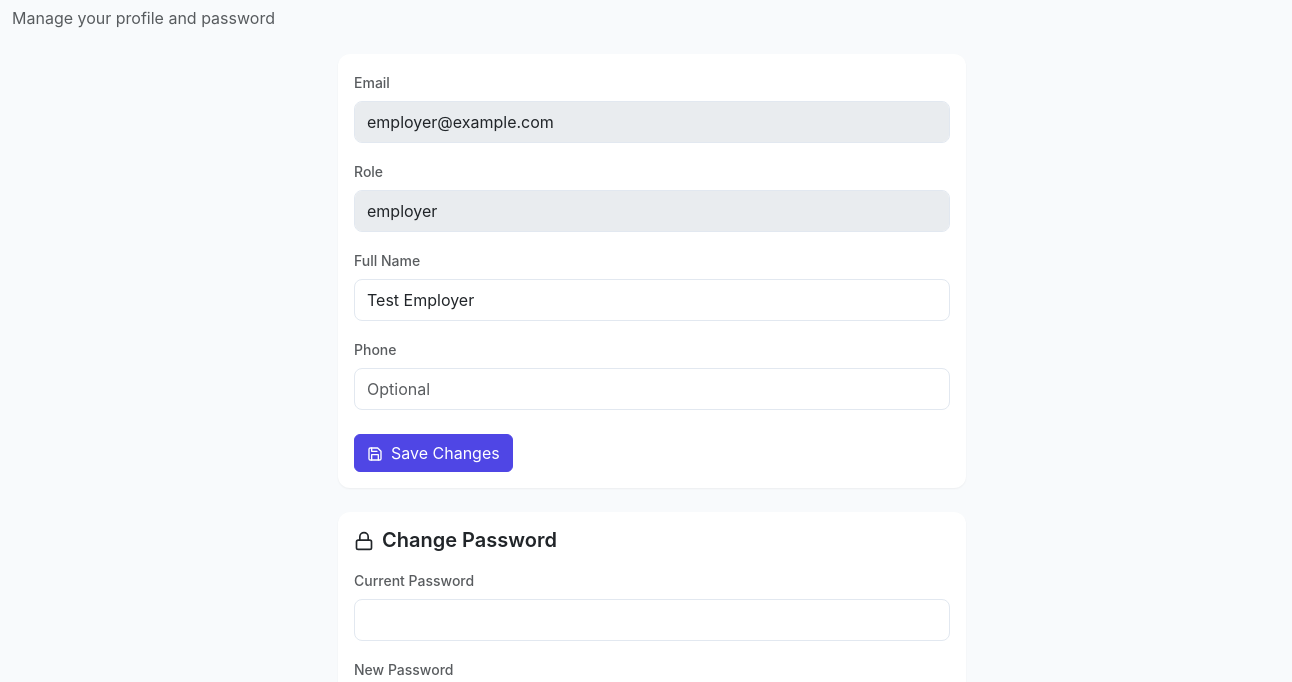
Test: AccountSettings › does not submit mismatched new passwords
Type "strong-password" into the password field labelled "Current Password" at (652, 620), box [354, 599, 950, 641]
(page scrolled)
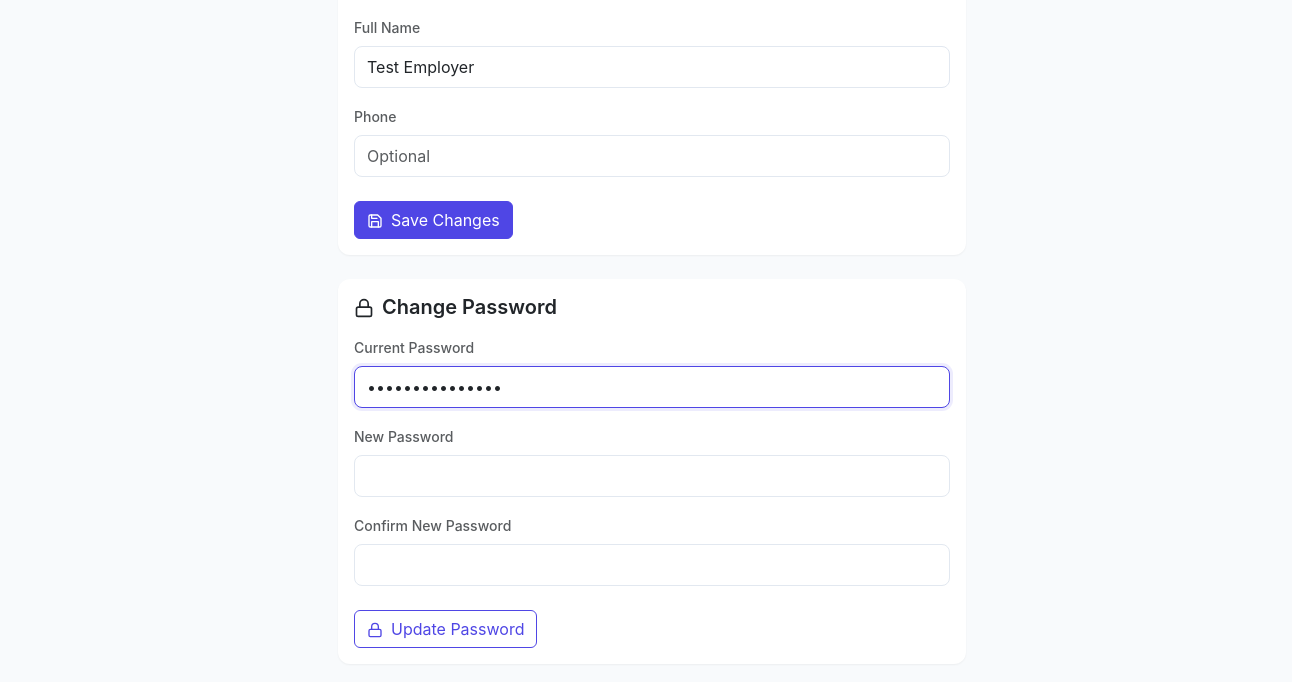
Type "new-strong-password" into the password field labelled "New Password" at (652, 476), box [354, 455, 950, 497]
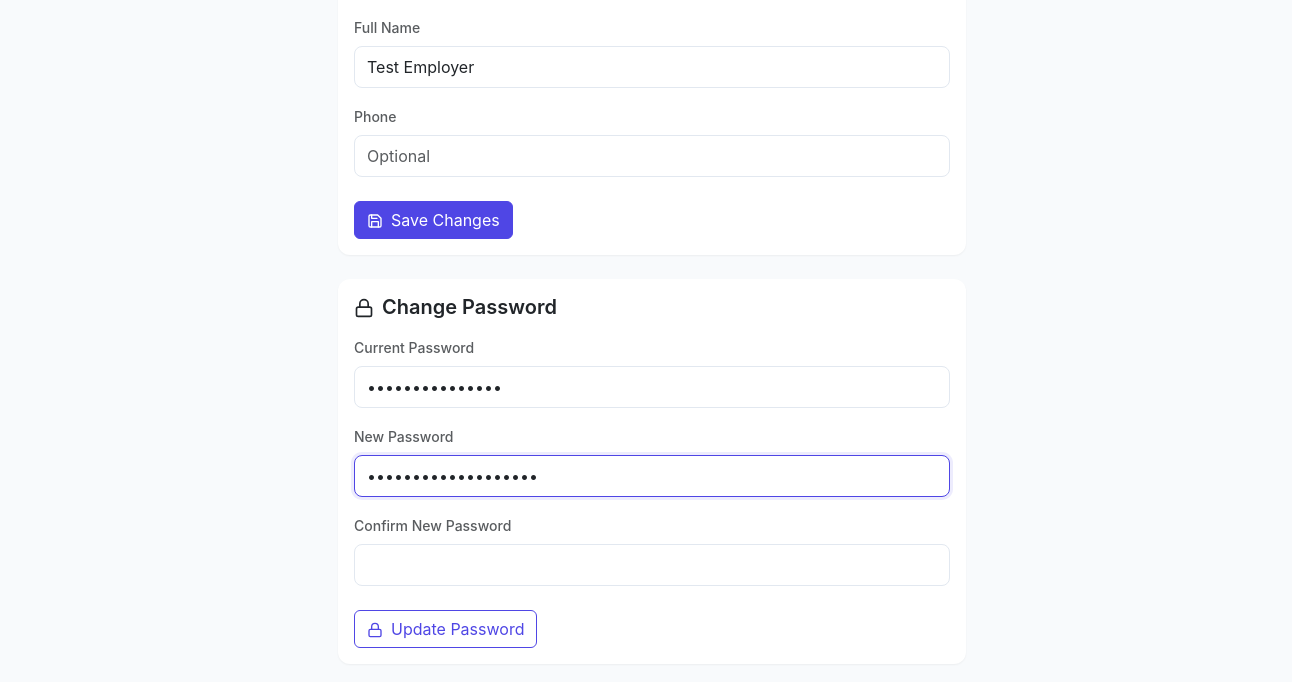
Type "different-password" into the password field labelled "Confirm New Password" at (652, 565), box [354, 544, 950, 586]
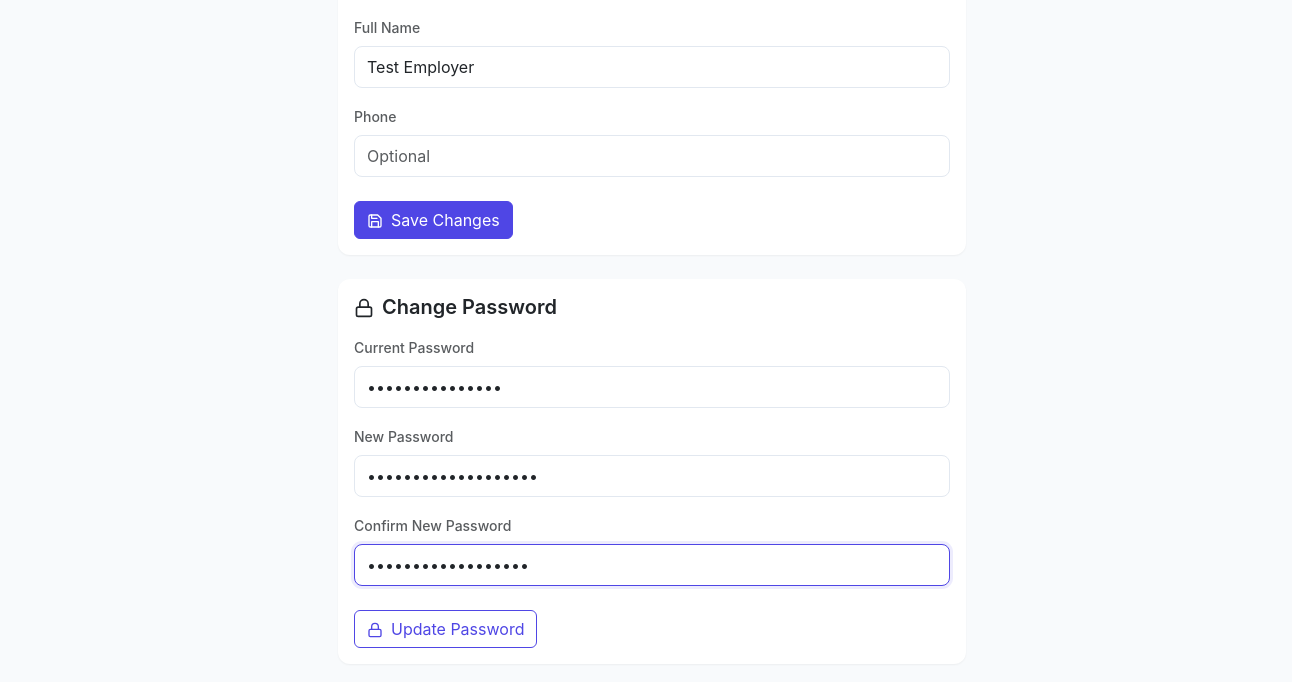
Click the button "Update Password" at (446, 629), box [354, 610, 537, 648]
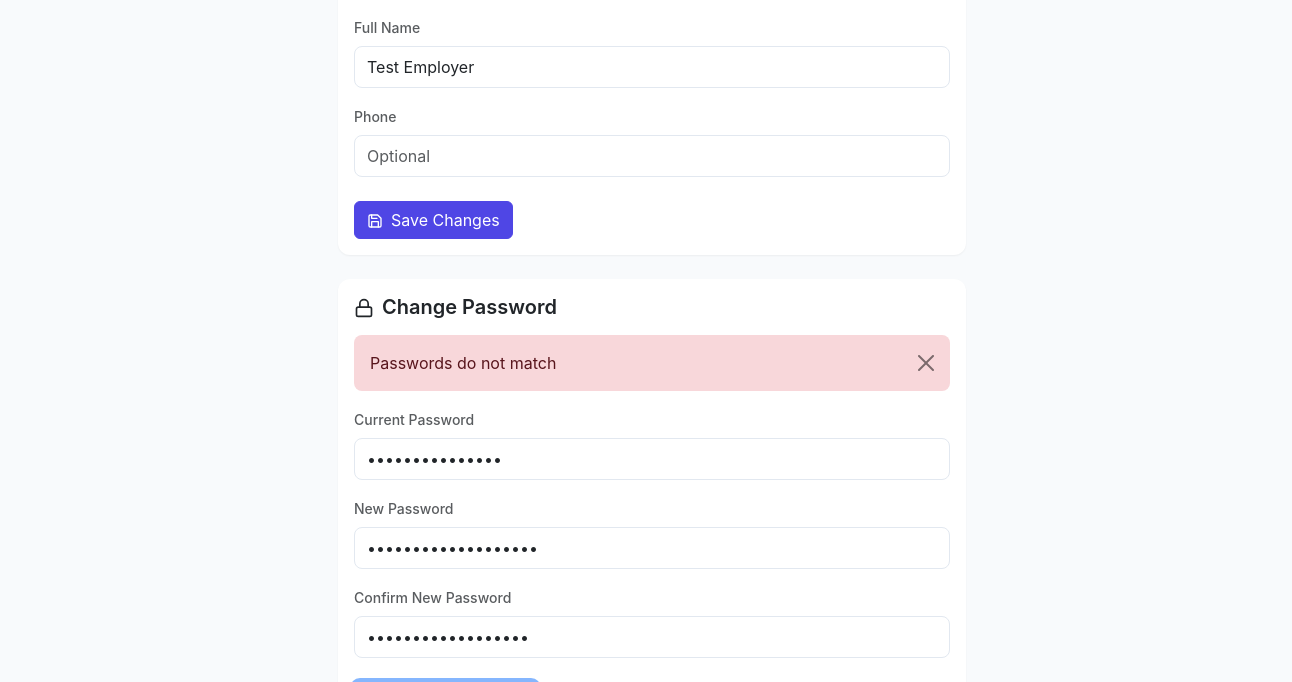
Now the text "Passwords do not match" is shown, box [354, 335, 950, 391]
